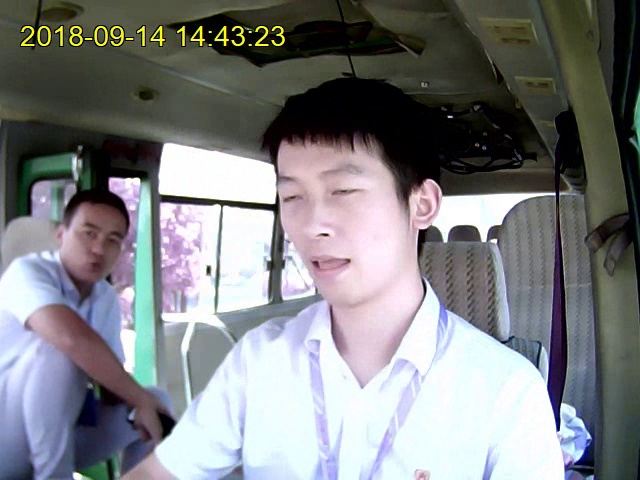open_mouth: (308, 251, 359, 277)
